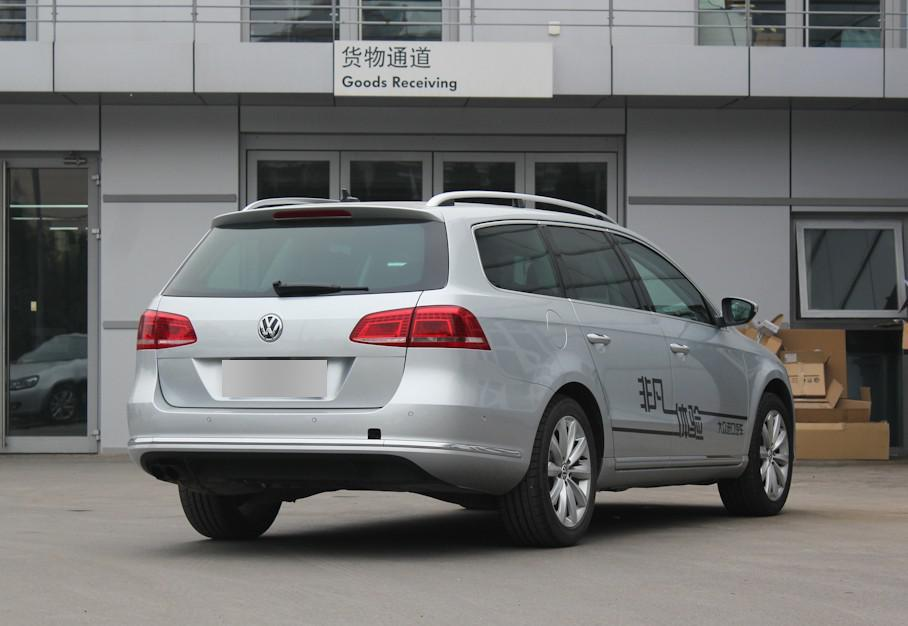Wagon: (123, 187, 798, 548)
